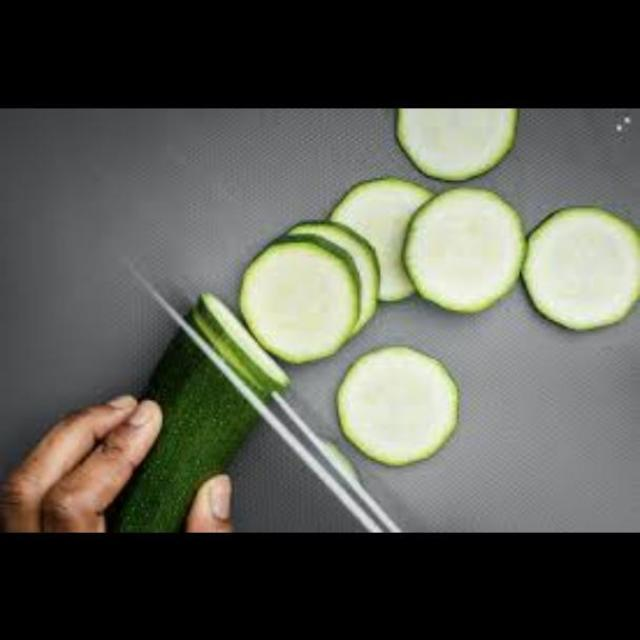vegetable marrow: (99, 292, 297, 531), (228, 192, 398, 347), (331, 319, 475, 466), (516, 188, 640, 347), (398, 174, 530, 322), (319, 163, 443, 309), (375, 108, 537, 186)
